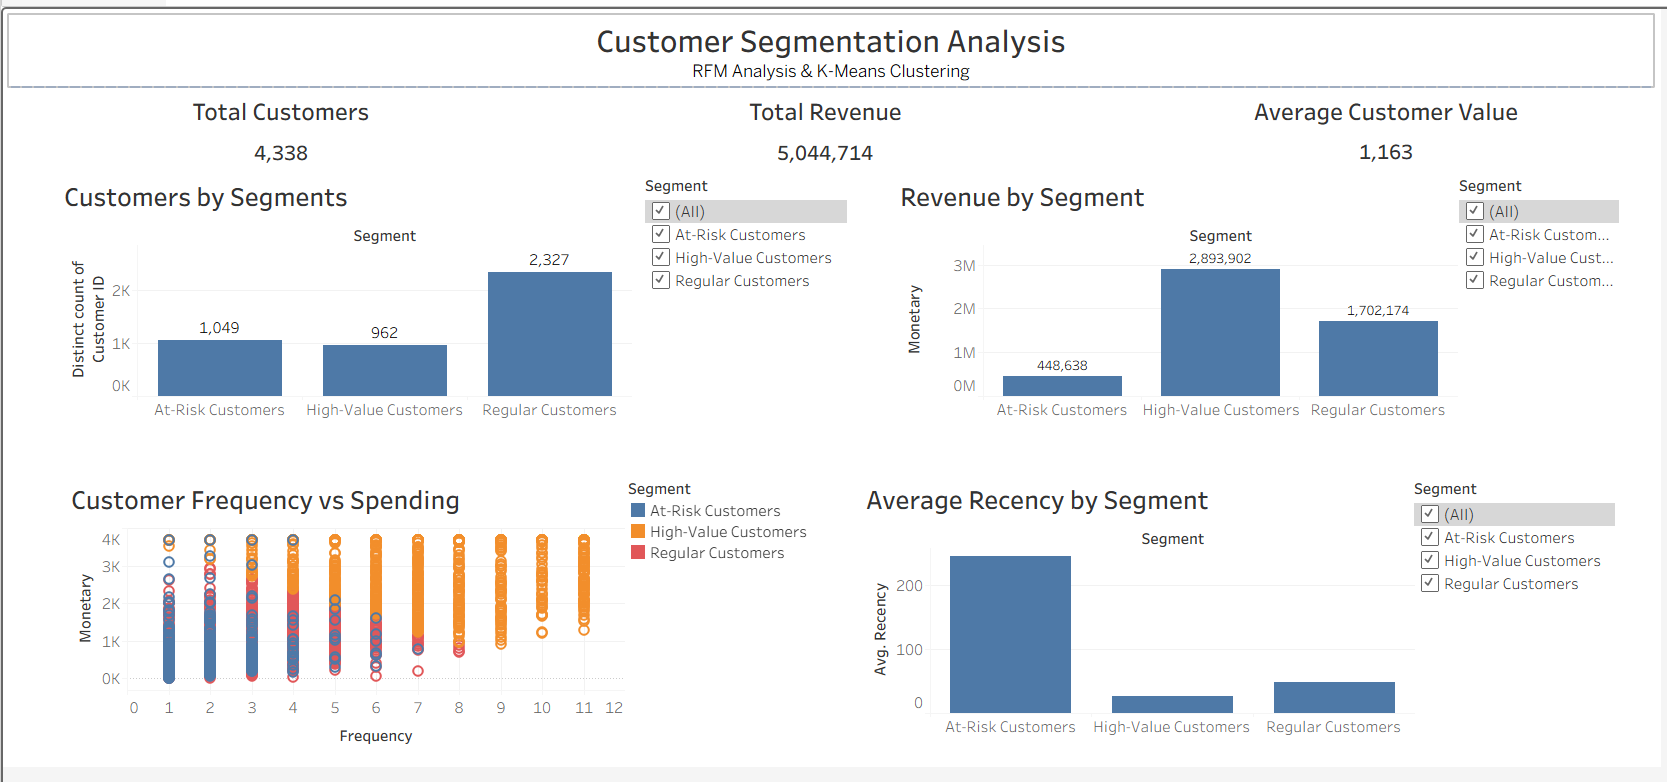

What the dashboard file says about the page in this screenshot:
{"tool":"tableau","page":{"name":"Customer Segmentation Dashboard","canvas":[1000,1000],"units":"permille","ordinal":0},"visuals":[{"type":"title","box":[4.8,10.5,990.4,93.4]},{"type":"worksheet","title":"Total Customer","mark":"Automatic","box":[96.4,110.5,144.6,100]},{"type":"worksheet","title":"Total Revenue","mark":"Automatic","box":[414.5,110.5,164.5,100]},{"type":"worksheet","title":"Avg Customer value","mark":"Automatic","box":[722.3,110.5,224.1,100]},{"type":"worksheet","title":"Customer by segment","mark":"Automatic","rows":["CustomerID"],"cols":["Segment"],"box":[35.5,221.1,344.6,343.4]},{"type":"filter","title":"Customer by segment","param":"[federated.14pk3wk06u0rlh181wox40kji8ch].[none:Segment:nk]","box":[387.9,221.1,121.7,155.3]},{"type":"worksheet","title":"Revenue by segment","mark":"Automatic","rows":["Monetary"],"cols":["Segment"],"box":[539.2,221.1,338.6,343.4]},{"type":"filter","title":"Revenue by segment","param":"[federated.14pk3wk06u0rlh181wox40kji8ch].[none:Segment:nk]","box":[878.3,221.1,96.4,155.3]},{"type":"worksheet","title":"Customer freq vs spending","mark":"Automatic","rows":["Monetary"],"cols":["Frequency"],"box":[39.8,619.7,336.1,361.8]},{"type":"legend","title":"Customer freq vs spending","param":"[federated.14pk3wk06u0rlh181wox40kji8ch].[none:Segment:nk]","box":[377.7,619.7,110.8,121]},{"type":"worksheet","title":"Avg recency by segment","mark":"Automatic","rows":["Recency"],"cols":["Segment"],"box":[518.7,619.7,333.1,361.8]},{"type":"filter","title":"Avg recency by segment","param":"[federated.14pk3wk06u0rlh181wox40kji8ch].[none:Segment:nk]","box":[851.2,619.7,121.1,157.9]}]}

Visuals, with their boxes on the dashboard's canvas, which has no fixed pixel size, in thousandths of its width and height (x1, y1, x2, y2). These are canvas units, not pixel positions in the 1667x782 screenshot, which may show the page scaled, cropped or inside an application window:
title: box(5, 10, 995, 104)
"Total Customer" worksheet: box(96, 110, 241, 210)
"Total Revenue" worksheet: box(414, 110, 579, 210)
"Avg Customer value" worksheet: box(722, 110, 946, 210)
"Customer by segment" worksheet: box(36, 221, 380, 564)
"Customer by segment" filter: box(388, 221, 510, 376)
"Revenue by segment" worksheet: box(539, 221, 878, 564)
"Revenue by segment" filter: box(878, 221, 975, 376)
"Customer freq vs spending" worksheet: box(40, 620, 376, 982)
"Customer freq vs spending" legend: box(378, 620, 488, 741)
"Avg recency by segment" worksheet: box(519, 620, 852, 982)
"Avg recency by segment" filter: box(851, 620, 972, 778)
